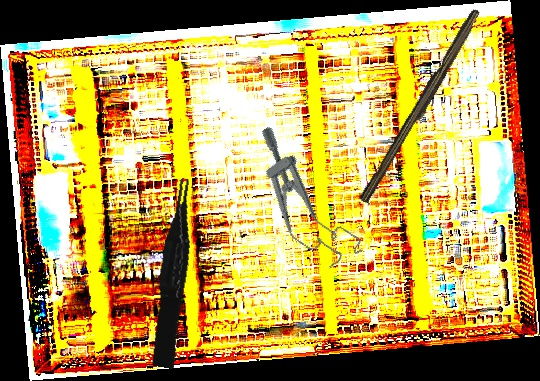Scalpel Handle: (358, 5, 485, 208)
Speculum: (232, 118, 368, 281)
Tissue Forceps: (143, 176, 207, 370)
